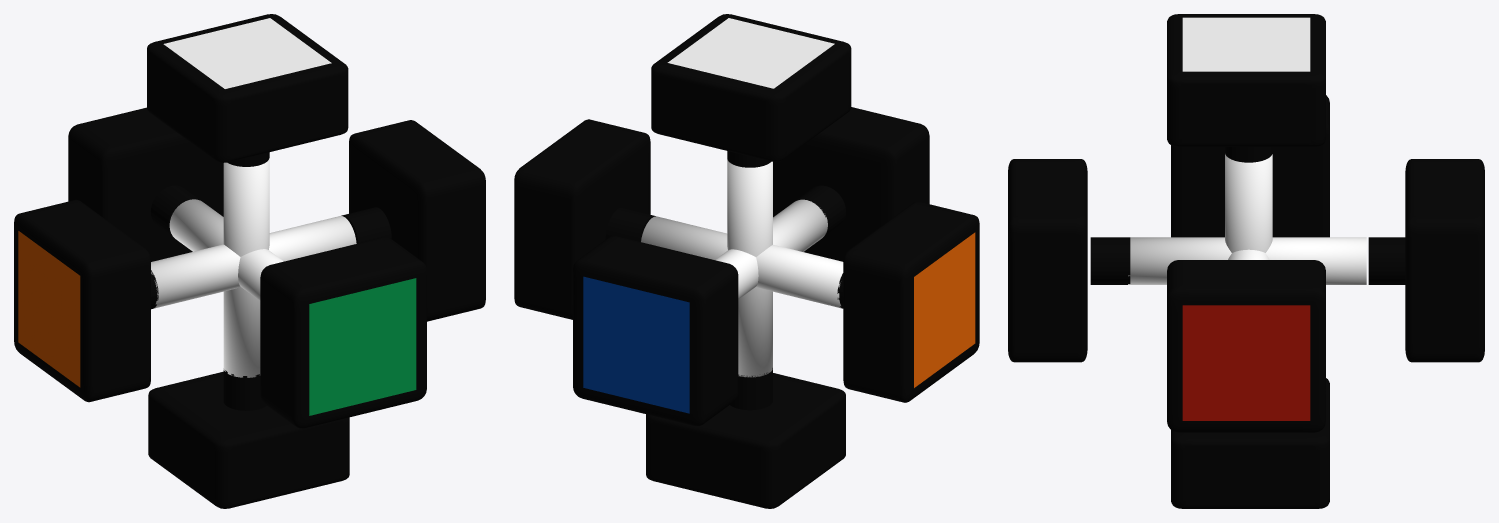
Rendered from SkeletonAnimated.glb.
The picture shows the model from 3 angles, left to right: view 1: azimuth 30°, elevation 25°; view 2: azimuth 150°, elevation 25°; view 3: azimuth 270°, elevation 25°; orthographic projection. The views are drawn at different scales.
Visible parts, largest first — view 1: Cylinder.008, Cylinder.005, Cylinder.001, Cylinder.004, Cube.051, Cylinder.007, Cylinder, Cylinder.003, Cylinder.006, Cylinder.002; view 2: Cylinder.007, Cylinder.005, Cylinder.001, Cylinder.004, Cube.051, Cylinder.008, Cylinder, Cylinder.003, Cylinder.006, Cylinder.002; view 3: Cylinder.004, Cylinder.001, Cylinder.008, Cylinder.007, Cube.051, Cylinder.005, Cylinder.006, Cylinder.
Part boxes in pixels (x1,y1,x2,y2): Cylinder.008: [260, 237, 426, 428]; Cylinder.005: [14, 200, 158, 402]; Cylinder.001: [147, 14, 348, 166]; Cylinder.004: [341, 120, 485, 321]; Cube.051: [148, 371, 349, 508]; Cylinder.007: [68, 107, 223, 261]; Cylinder: [223, 159, 269, 377]; Cylinder.003: [151, 216, 356, 308]; Cylinder.006: [169, 199, 283, 300]; Cylinder.002: [223, 370, 266, 410]; Cylinder.007: [573, 236, 738, 426]; Cylinder.005: [837, 201, 979, 402]; Cylinder.001: [651, 14, 851, 167]; Cylinder.004: [514, 119, 655, 319]; Cube.051: [646, 373, 845, 508]; Cylinder.008: [773, 107, 929, 261]; Cylinder: [727, 159, 772, 377]; Cylinder.003: [641, 216, 843, 308]; Cylinder.006: [715, 199, 827, 299]; Cylinder.002: [730, 368, 772, 410]; Cylinder.004: [1167, 260, 1325, 432]; Cylinder.001: [1167, 14, 1325, 162]; Cylinder.008: [1008, 159, 1130, 362]; Cylinder.007: [1368, 159, 1484, 362]; Cube.051: [1171, 378, 1329, 508]; Cylinder.005: [1171, 95, 1329, 237]; Cylinder.006: [1128, 237, 1366, 284]; Cylinder: [1225, 154, 1272, 252].
Size of the model in its own units: 6 by 6 by 6.
